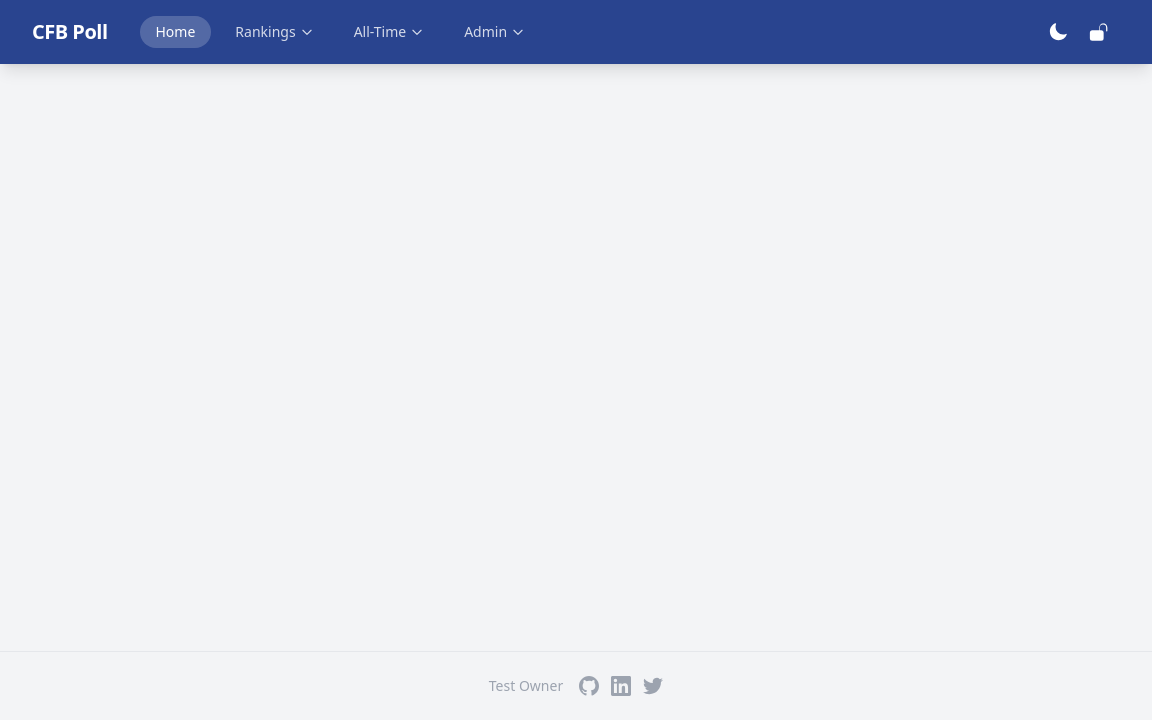
Layout › shows logout confirm modal on unlock icon click
Click the button named "Log out": {"x": 1098, "y": 32} x1=1080 y1=14 x2=1116 y2=50
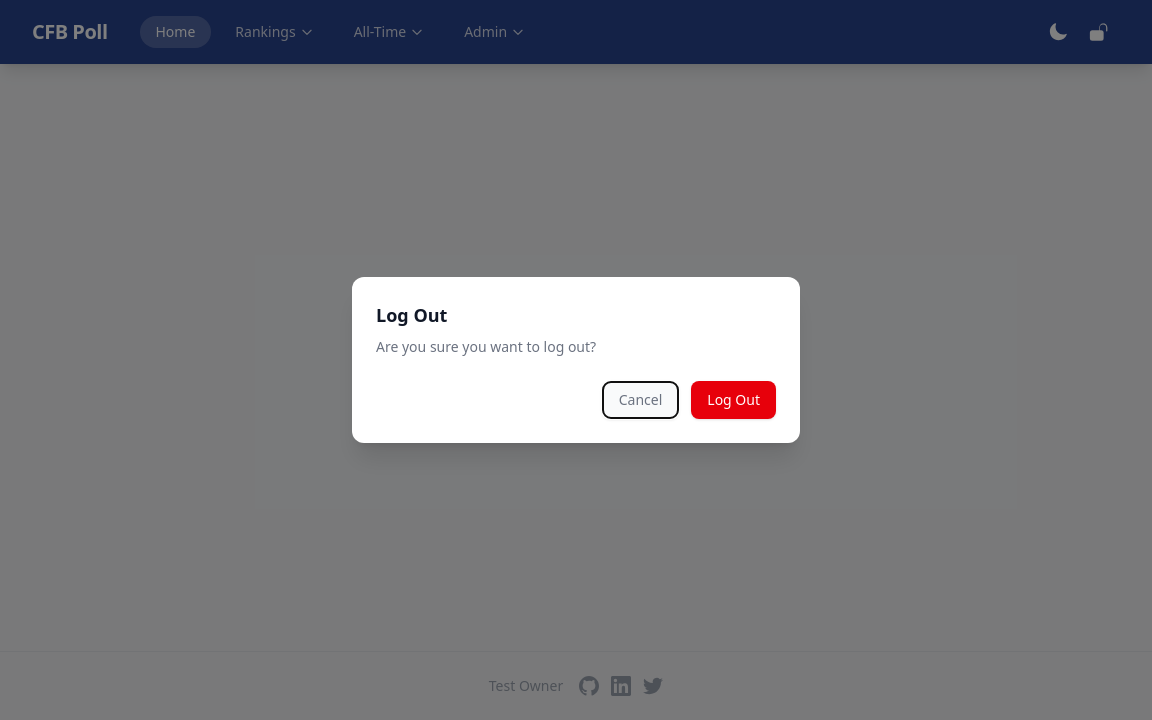
expect the dialog is shown: met
expect the text "Are you sure you want to log out?" is shown: met, box x1=376 y1=337 x2=596 y2=356
